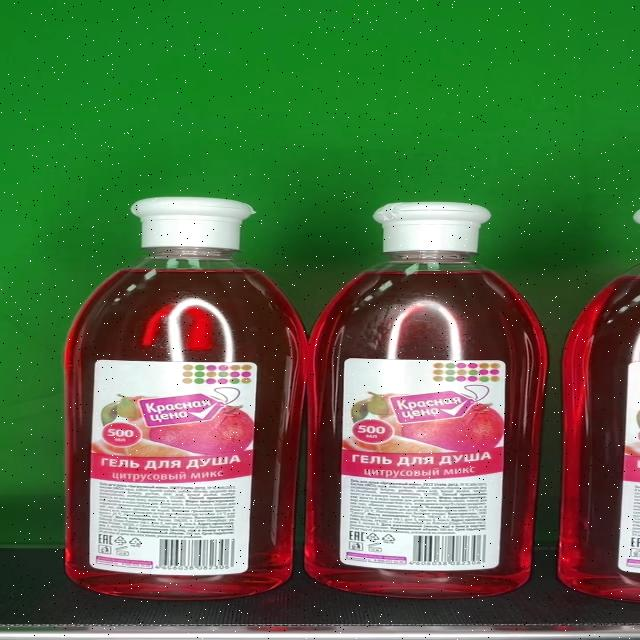Bottle: (62, 196, 308, 601), (305, 203, 549, 599)
Cap: (132, 196, 257, 246), (372, 202, 493, 253)
